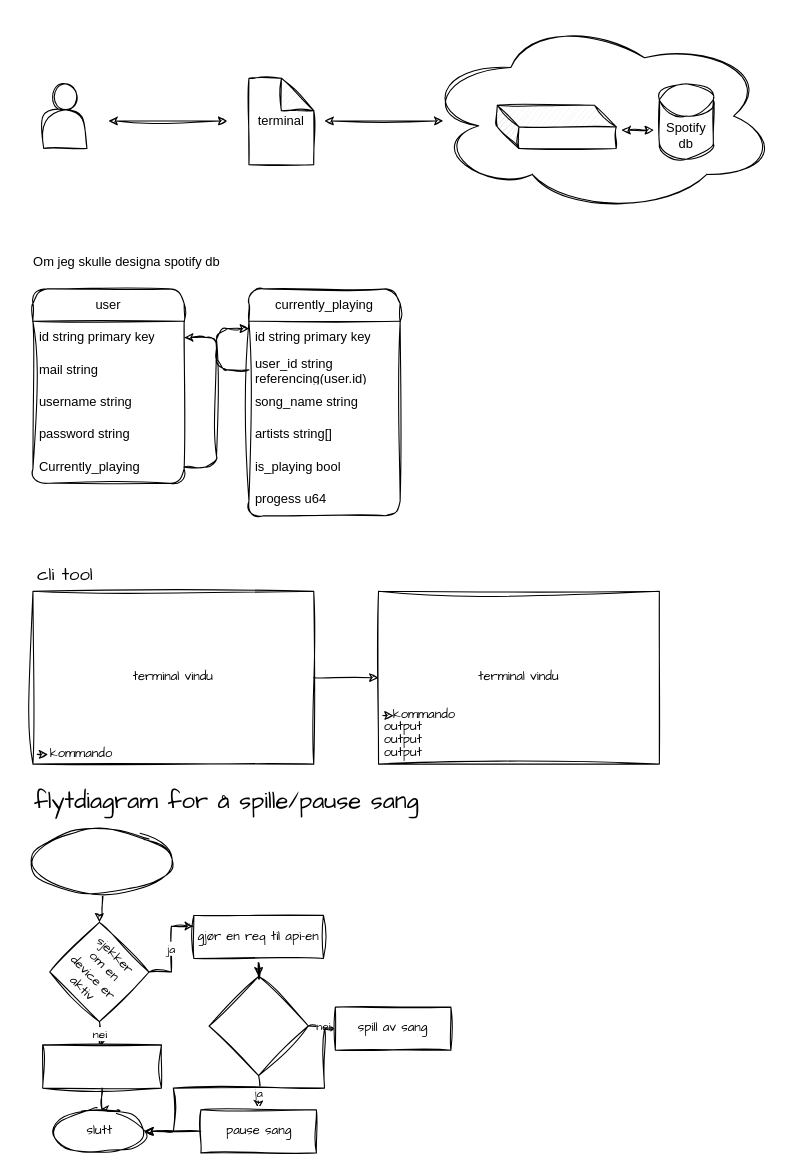
Some shapes in this 797 by 1172 pixel diagram are drawn without their labels. Each missing label, with the centre of its shape:
Bruker: (x=65, y=115)
print at ingen device er aktiv: (x=101, y=1066)
sjekker om sangen spilles av: (x=258, y=1025)
Skriv p: (x=101, y=861)
Spotify server: (x=556, y=126)
